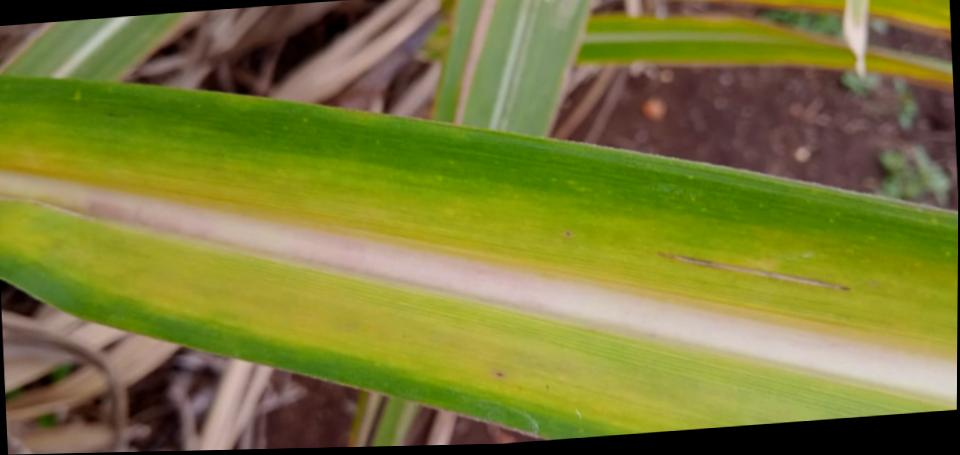Rust: (656, 250, 853, 290), (494, 369, 505, 377), (564, 229, 574, 237)
